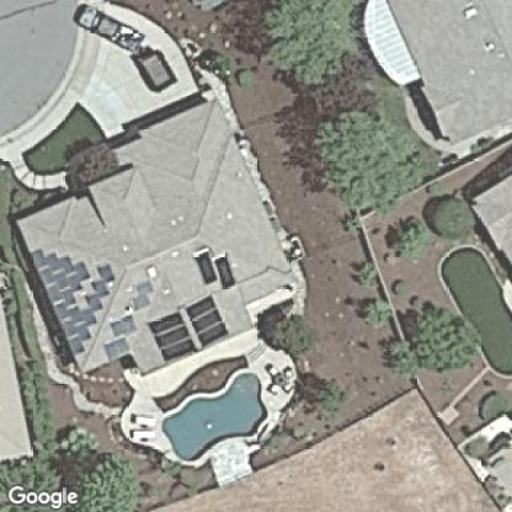solar-panel: (29, 247, 117, 354), (148, 292, 229, 364), (102, 278, 156, 361), (192, 247, 238, 291)
